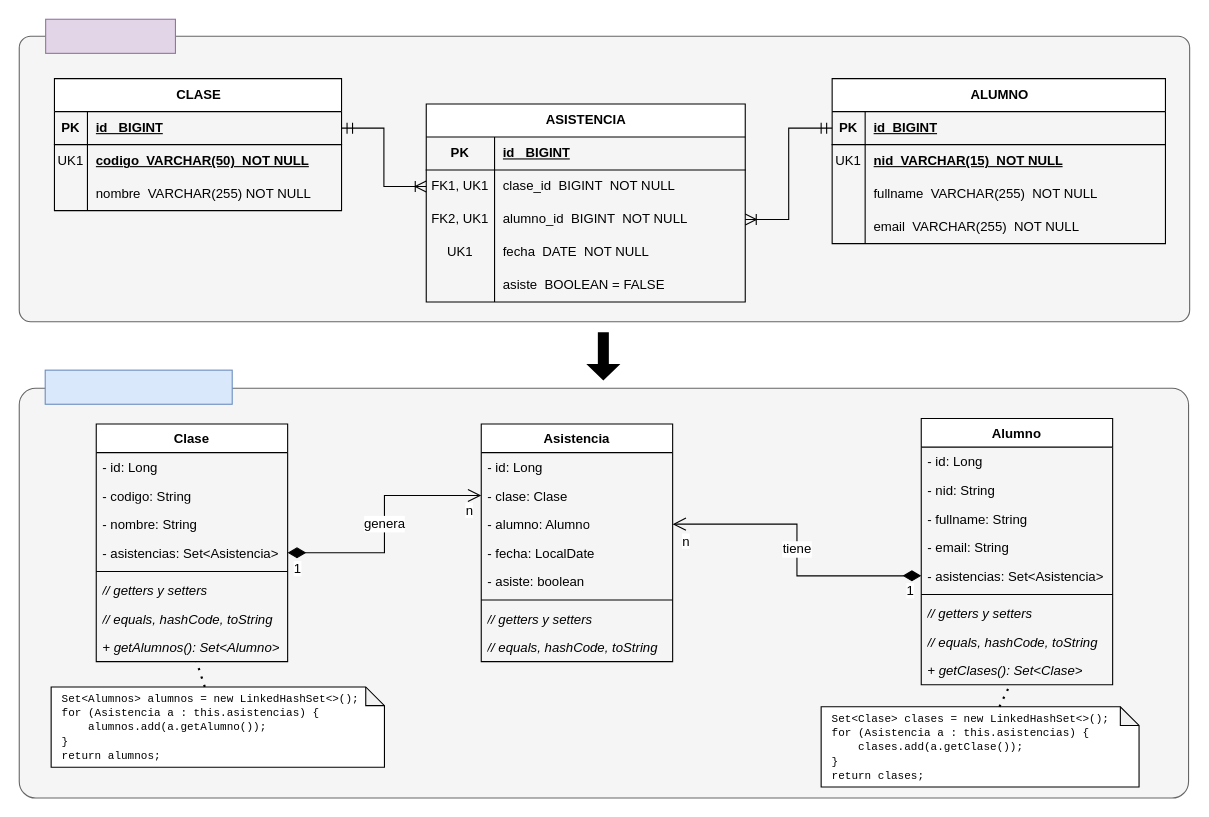
Some shapes in this 1209 by 817 pixel diagram are drawn without their labels. The centre of each missing label's shape, as x and y in pixels:
"Diagrama de Clases" belongs at (138,386).
"Diagrama ER" belongs at (110,35).
